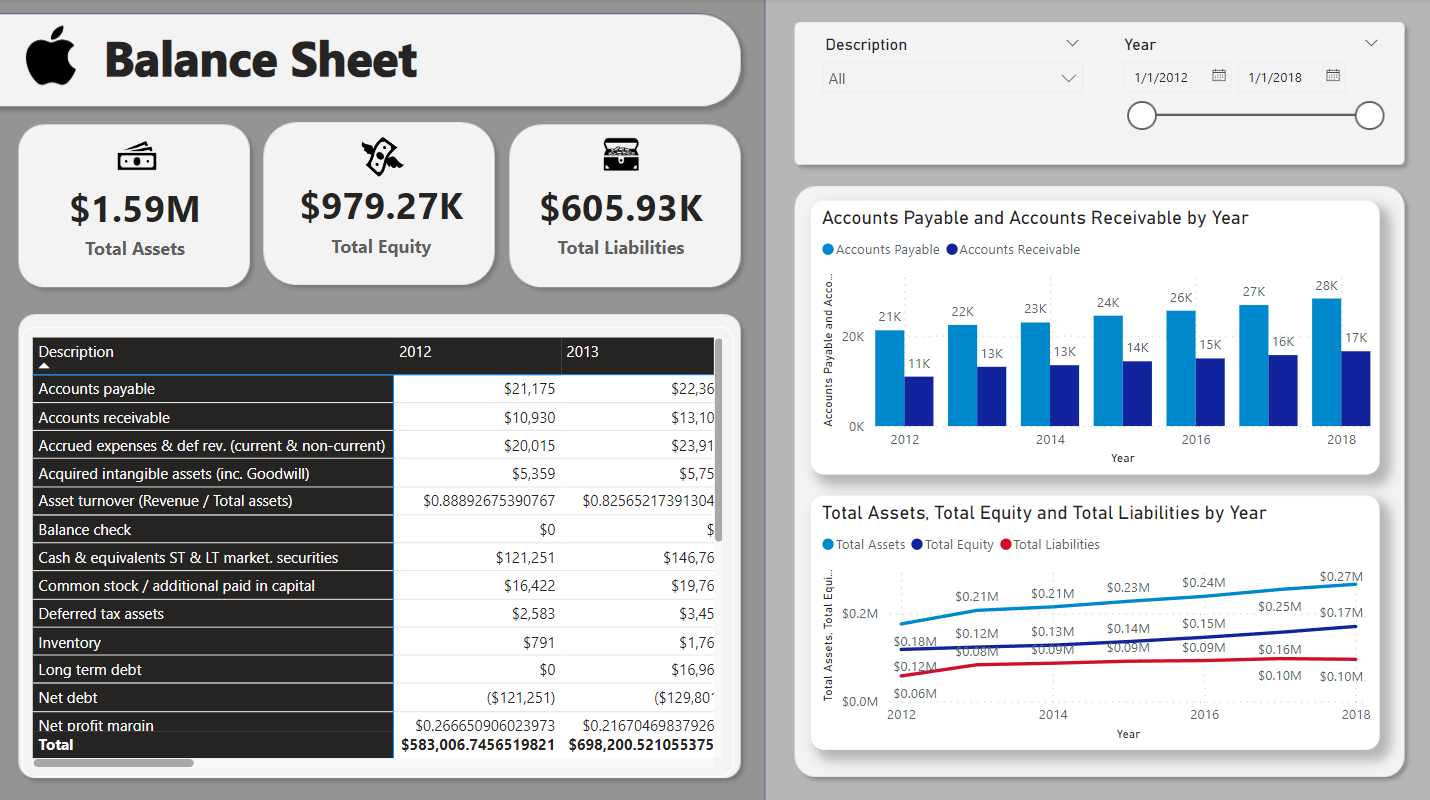

What the dashboard file says about the page in this screenshot:
{"tool":"powerbi","page":{"name":"Balance Sheet","canvas":[1280,720],"ordinal":3},"visuals":[{"type":"pivotTable","fields":{"Columns":["BalanceSht.Year"],"Rows":["BalanceSht.Description"],"Values":["Sum(BalanceSht.Value)"]},"box":[22.1,292.8,633.3,400.9],"z":0},{"type":"card","fields":{"Values":["BalanceSht.Total Assests"]},"box":[16.3,141.8,212.6,112.7],"z":1000},{"type":"lineChart","fields":{"Category":["BalanceSht.Year"],"Y":["BalanceSht.Total Assets","BalanceSht.Total Equity","BalanceSht.Total Liabilities"]},"box":[723.9,442.7,506.6,226.6],"z":2000},{"type":"clusteredColumnChart","fields":{"Category":["BalanceSht.Year.Variation.Date Hierarchy.Year","BalanceSht.Year.Variation.Date Hierarchy.Quarter","BalanceSht.Year.Variation.Date Hierarchy.Month","BalanceSht.Year.Variation.Date Hierarchy.Day"],"Y":["BalanceSht.Accounts Payable","BalanceSht.Accounts Receivable"]},"box":[723.9,180.1,506.6,244],"z":3000},{"type":"slicer","fields":{"Values":["BalanceSht.Year"]},"box":[990,27.9,252.1,161.5],"z":4000},{"type":"slicer","fields":{"Values":["BalanceSht.Description"]},"box":[723.9,27.9,252.1,110.4],"z":5000},{"type":"textbox","box":[46.5,17.4,375.3,67.4],"z":6000},{"type":"card","fields":{"Values":["BalanceSht.Total Equity"]},"box":[235.9,139.4,212.6,112.7],"z":7000},{"type":"card","fields":{"Values":["BalanceSht.Total Liabilities"]},"box":[456.6,140.6,198.7,112.7],"z":8000},{"type":"image","box":[16,17.7,65.1,66.2],"z":9000},{"type":"image","box":[101.1,117.4,46.5,47.6],"z":10000},{"type":"image","box":[318.4,117.4,50,48.8],"z":11000},{"type":"image","box":[529.9,115,52.3,48.8],"z":12000}]}

Visuals, with their boxes in screenshot pixels (x1, y1, x2, y2), scaled from the page's 1280x720 canvas onto the 1430x800 screenshot:
pivotTable - BalanceSht.Year x BalanceSht.Description: BBox(25, 325, 732, 771)
card - BalanceSht.Total Assests: BBox(18, 158, 256, 283)
lineChart - BalanceSht.Year x BalanceSht.Total Assets: BBox(809, 492, 1375, 744)
clusteredColumnChart - BalanceSht.Year.Variation.Date Hierarchy.Year x BalanceSht.Year.Variation.Date Hierarchy.Quarter: BBox(809, 200, 1375, 471)
slicer - BalanceSht.Year: BBox(1106, 31, 1388, 210)
slicer - BalanceSht.Description: BBox(809, 31, 1090, 154)
textbox: BBox(52, 19, 471, 94)
card - BalanceSht.Total Equity: BBox(264, 155, 501, 280)
card - BalanceSht.Total Liabilities: BBox(510, 156, 732, 281)
image: BBox(18, 20, 91, 93)
image: BBox(113, 130, 165, 183)
image: BBox(356, 130, 412, 185)
image: BBox(592, 128, 650, 182)
